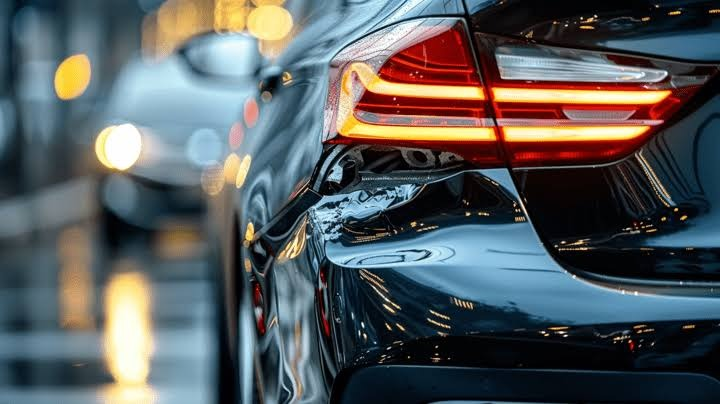car: (186, 4, 720, 388), (273, 134, 695, 403), (51, 2, 312, 382)
